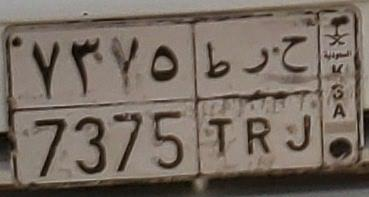3: (69, 36, 109, 176)
5: (150, 44, 185, 170)
7: (30, 41, 67, 179), (111, 36, 145, 172)
J: (281, 34, 311, 152)
R: (242, 46, 273, 156)
T: (204, 40, 234, 158)
